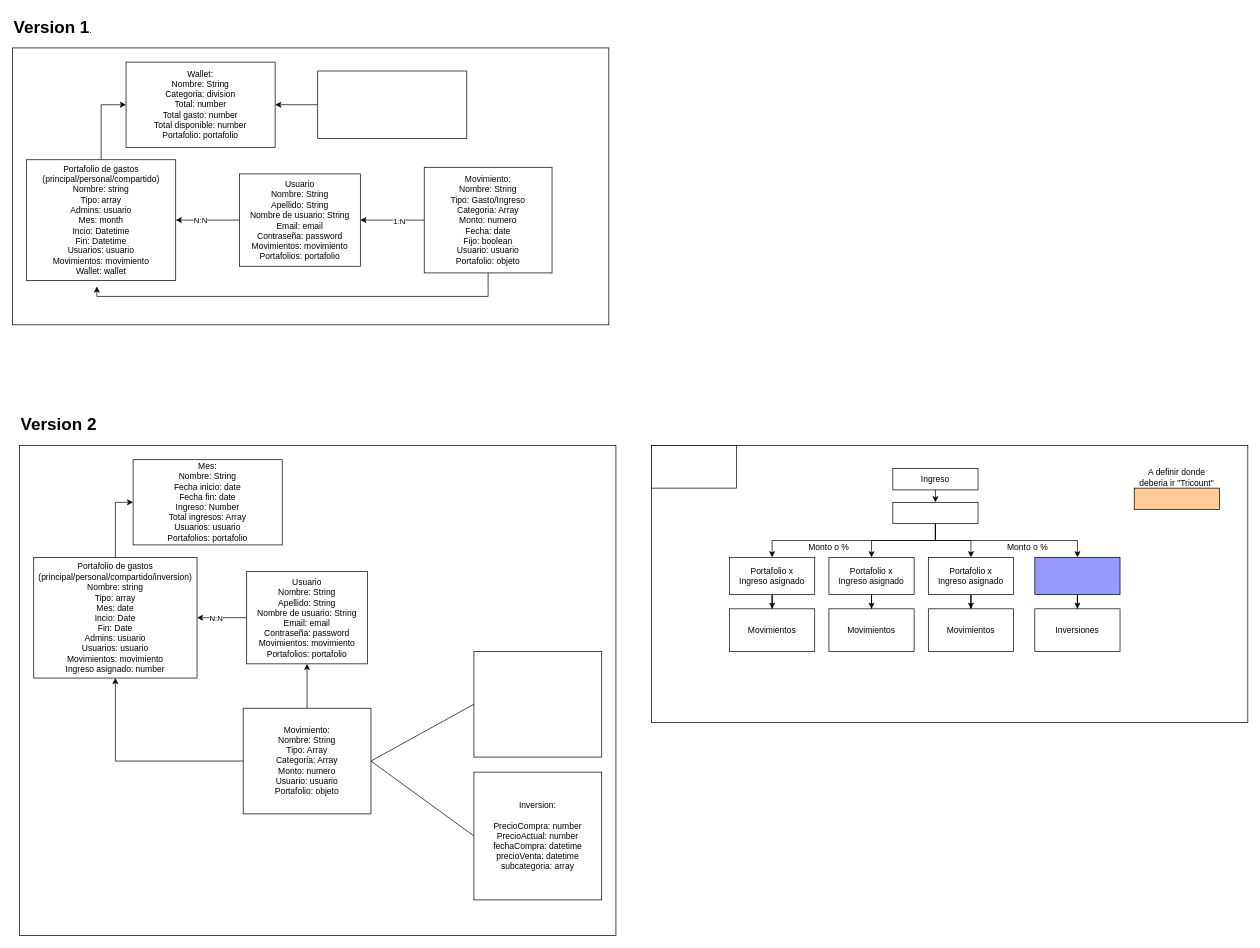
This 1260x948 diagram has some shape labels left out. The shapes that lost their labels are listed below. From the top down, each one's centre as x and y in pixels, then its label:
the point at 392,104: Division: Nombre: String Monto: Number Porcentaje: Porcentaje Wallet: wallet
the point at 694,466: Mes
the point at 935,513: Total ingresos
the point at 1176,498: Categoria z
the point at 1077,576: Inversion y Ingreso asignado
the point at 537,704: Gasto/Ingreso: Fecha: date Fijo: boolean
